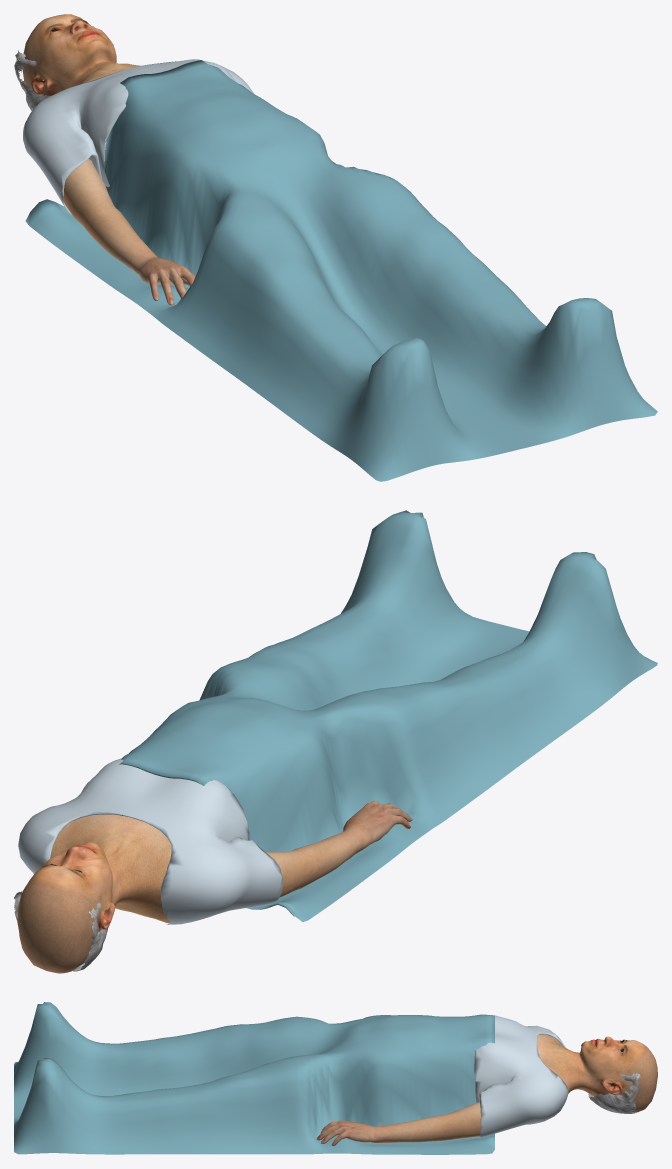
The picture shows the model from 3 angles, top to bottom: view 1: azimuth 30°, elevation 25°; view 2: azimuth 150°, elevation 25°; view 3: azimuth 270°, elevation 25°; orthographic projection. The views are drawn at different scales.
Parts seen in each view (by area): view 1: sheet, gown, arms, body; view 2: sheet, gown, body, arms, hair; view 3: sheet, gown, body, arms, hair.
Part boxes in pixels (<box>): sheet: <box>25,60,657,481</box>; gown: <box>23,59,253,213</box>; arms: <box>62,159,195,305</box>; body: <box>22,14,140,95</box>; sheet: <box>119,510,657,921</box>; gown: <box>18,758,282,924</box>; body: <box>17,814,171,973</box>; arms: <box>266,800,412,897</box>; hair: <box>14,891,107,971</box>; sheet: <box>14,1002,494,1154</box>; gown: <box>474,1015,568,1137</box>; body: <box>537,1034,657,1112</box>; arms: <box>316,1102,480,1146</box>; hair: <box>588,1073,640,1113</box>.
Size of the model in its own units: 0.6435 by 0.2751 by 1.89.
8 materials, 6 textured.
